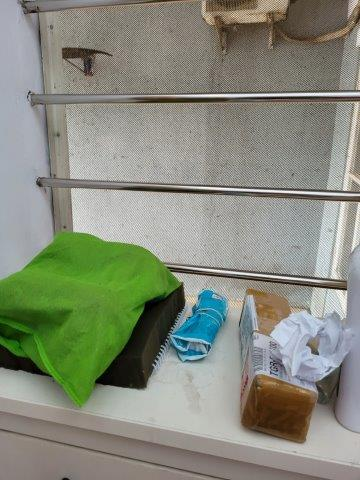kertas: (271, 312, 352, 382)
